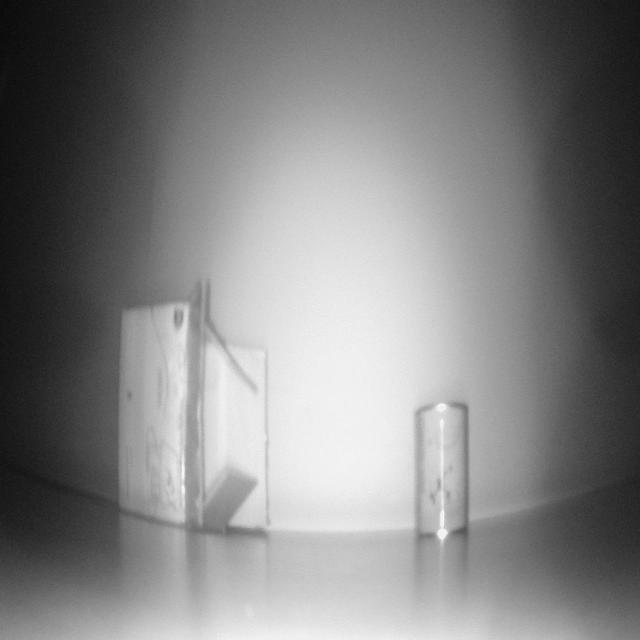targets: (115, 274, 271, 537), (410, 396, 472, 543)
